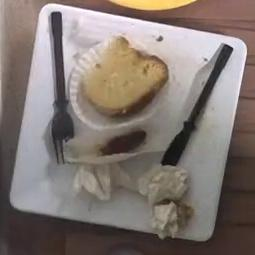dessert: (82, 36, 168, 116)
